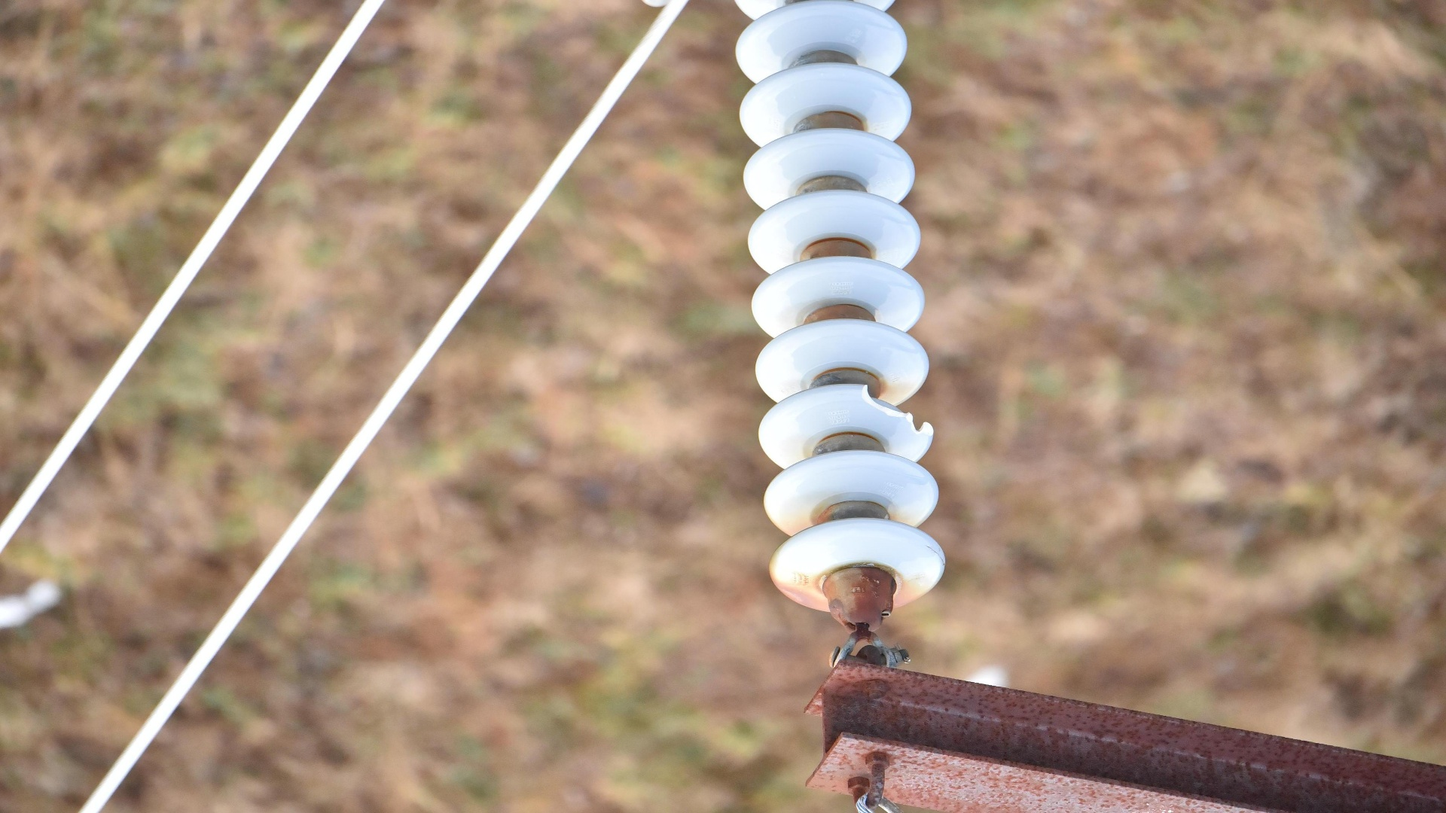insulator: (722, 1, 952, 626)
insulator_breakage: (856, 379, 938, 438)
